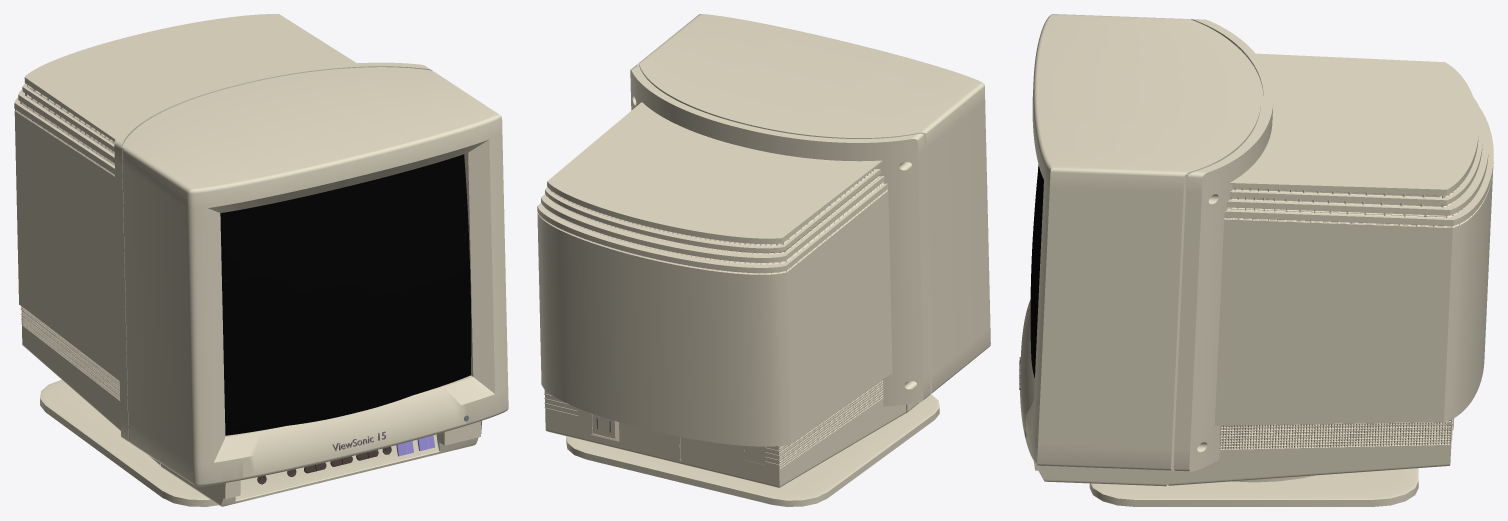
File: crt_monitor.optimized.glb
The picture shows the model from 3 angles, left to right: view 1: azimuth 30°, elevation 25°; view 2: azimuth 150°, elevation 25°; view 3: azimuth 270°, elevation 25°; orthographic projection. The views are drawn at different scales.
Visible parts, largest first — view 1: Cylinder.003_Material.006_0, Cylinder.003_Material.004_0, Cylinder.003_Material.003_0, Cylinder.003_Material.001_0; view 2: Cylinder.003_Material.006_0; view 3: Cylinder.003_Material.006_0, Cylinder.003_Material.004_0.
Part boxes in pixels (x1,y1,x2,y2): Cylinder.003_Material.006_0: [14, 14, 508, 506]; Cylinder.003_Material.004_0: [221, 156, 467, 427]; Cylinder.003_Material.003_0: [220, 154, 471, 435]; Cylinder.003_Material.001_0: [257, 446, 391, 484]; Cylinder.003_Material.006_0: [537, 14, 990, 506]; Cylinder.003_Material.006_0: [1020, 14, 1493, 506]; Cylinder.003_Material.004_0: [1030, 166, 1043, 372].
Size of the model in its own units: 0.5522 by 0.5763 by 0.7096.
